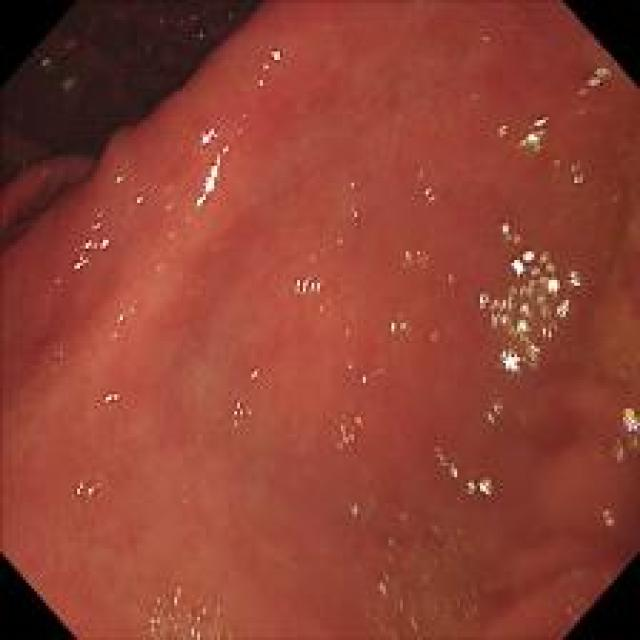bubbles: (371, 525, 488, 629), (141, 580, 238, 635), (400, 245, 430, 272), (55, 350, 68, 368)
contrast: (4, 1, 284, 196)
specularity: (479, 222, 582, 369), (431, 436, 500, 505), (192, 126, 235, 208), (74, 208, 118, 276), (230, 364, 268, 438), (324, 409, 362, 469), (495, 116, 548, 152), (69, 469, 115, 509), (290, 262, 331, 304), (252, 39, 285, 91), (614, 398, 635, 469), (344, 358, 384, 390), (384, 306, 416, 341), (111, 302, 138, 339), (580, 66, 610, 96), (565, 152, 589, 189), (596, 496, 618, 535), (96, 380, 124, 410), (414, 170, 438, 205), (484, 398, 505, 425), (112, 172, 126, 185)
